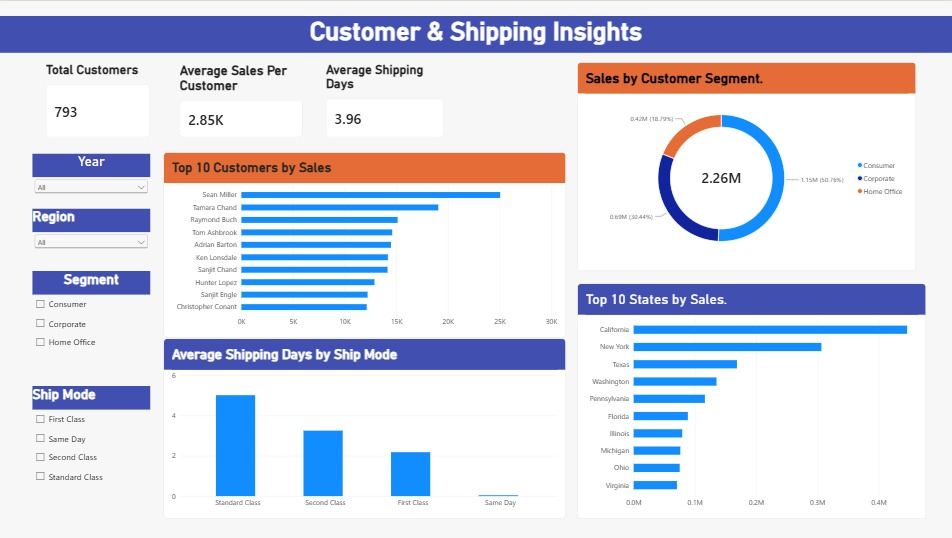

Layout of this report page (visuals, bound fields, positions):
{"tool":"powerbi","page":{"name":"Page 3","canvas":[1920,1080],"ordinal":2},"visuals":[{"type":"textbox","title":"Customer & Shipping Insights","box":[0,30,1920,75],"z":0},{"type":"cardVisual","title":"Average Shipping Days","fields":{"Data":["superstore_cleaned.Average Shipping Days"]},"box":[660,122,235,150],"z":1},{"type":"cardVisual","title":"Total Customers","fields":{"Data":["Count(superstore_cleaned.Customer_ID)"]},"box":[100,122,208.3,150],"z":2},{"type":"cardVisual","title":"Average Sales Per Customer","fields":{"Data":["Calendar.Average Sales per Customer"]},"box":[368,122,246.7,150],"z":3},{"type":"clusteredBarChart","title":"Top 10 Customers by Sales","fields":{"Category":["superstore_cleaned.Customer_Name"],"Y":["Sum(superstore_cleaned.Sales)"]},"box":[335,302.5,805,370],"z":4},{"type":"donutChart","title":"Sales by Customer Segment.","fields":{"Category":["superstore_cleaned.Segment"],"Y":["Sum(superstore_cleaned.Sales)"]},"box":[1162.5,122.5,677.5,417.5],"z":5},{"type":"clusteredColumnChart","title":"Average Shipping Days by Ship Mode","fields":{"Category":["superstore_cleaned.Ship_Mode"],"Y":["superstore_cleaned.Average Shipping Days"]},"box":[335,675,805,360],"z":6},{"type":"clusteredBarChart","title":"Top 10 States by Sales.","fields":{"Category":["superstore_cleaned.State"],"Y":["Sum(superstore_cleaned.Sales)"]},"box":[1162.5,565,697.5,470],"z":7},{"type":"slicer","title":"Year","fields":{"Values":["Calendar.Year"]},"box":[72,304,236,140],"z":8},{"type":"slicer","title":"Segment","fields":{"Values":["superstore_cleaned.Segment"]},"box":[72,540,236,229],"z":9},{"type":"slicer","title":"Region","fields":{"Values":["superstore_cleaned.Region"]},"box":[72,416,236,124],"z":10},{"type":"slicer","title":"Ship Mode","fields":{"Values":["superstore_cleaned.Ship_Mode"]},"box":[72,769,236,266],"z":11}]}

Visuals, with their boxes in screenshot pixels (x1, y1, x2, y2), scaled from the page's 1920x1080 canvas onto the 952x538 screenshot:
"Customer & Shipping Insights" textbox: bbox=[0, 15, 951, 52]
"Average Shipping Days" cardVisual: bbox=[327, 61, 444, 135]
"Total Customers" cardVisual: bbox=[50, 61, 153, 135]
"Average Sales Per Customer" cardVisual: bbox=[182, 61, 305, 135]
"Top 10 Customers by Sales" clusteredBarChart: bbox=[166, 151, 565, 335]
"Sales by Customer Segment." donutChart: bbox=[576, 61, 912, 269]
"Average Shipping Days by Ship Mode" clusteredColumnChart: bbox=[166, 336, 565, 516]
"Top 10 States by Sales." clusteredBarChart: bbox=[576, 281, 922, 516]
"Year" slicer: bbox=[36, 151, 153, 221]
"Segment" slicer: bbox=[36, 269, 153, 383]
"Region" slicer: bbox=[36, 207, 153, 269]
"Ship Mode" slicer: bbox=[36, 383, 153, 516]
